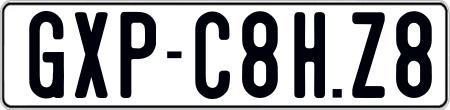8: (393, 11, 434, 103), (242, 8, 283, 96)
C: (193, 10, 233, 103)
G: (28, 9, 66, 102)
H: (294, 10, 326, 99)
P: (120, 10, 159, 100)
X: (75, 11, 108, 102)
Z: (349, 12, 387, 98)
